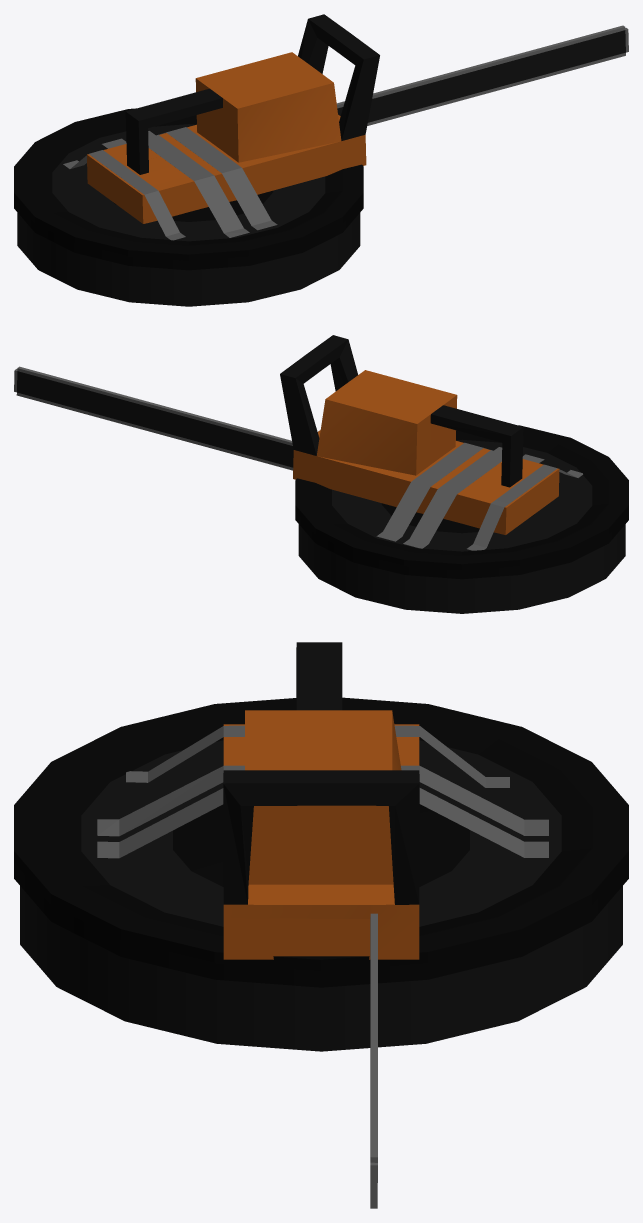
Rendered from RoombaMotosierra.FBX.
3 renders of one model, top to bottom at view 1: azimuth 30°, elevation 25°; view 2: azimuth 150°, elevation 25°; view 3: azimuth 270°, elevation 25°, orthographic. The views are drawn at different scales.
Parts seen in each view (by area): view 1: Roomba; view 2: Roomba; view 3: Roomba.
Part boxes in pixels (x1,y1,x2,y2): Roomba: [14, 14, 628, 306]; Roomba: [14, 335, 628, 613]; Roomba: [14, 642, 628, 1208].
Bounding box in the file's own units: 2.02 × 0.5034 × 1.
